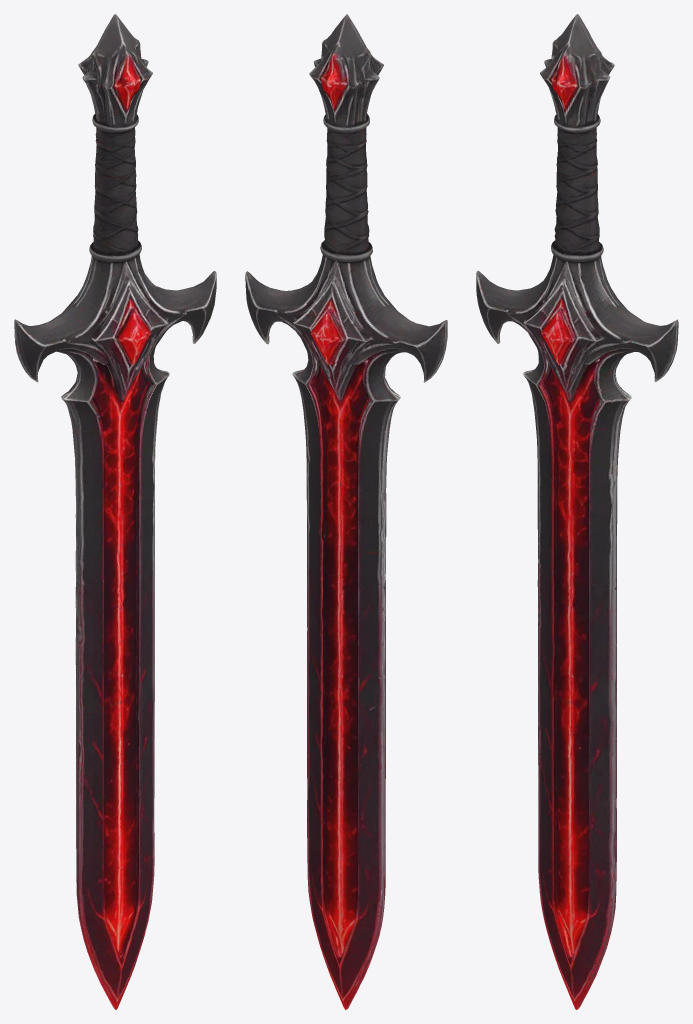
Rendered from my_emberblade.glb.
The picture shows the model from 3 angles, left to right: view 1: azimuth 30°, elevation 25°; view 2: azimuth 150°, elevation 25°; view 3: azimuth 330°, elevation 25°; orthographic projection.
Bounding box in the file's own units: 0.4005 × 1.9 × 0.1608.
Materials: 1 (1 with a texture image).
